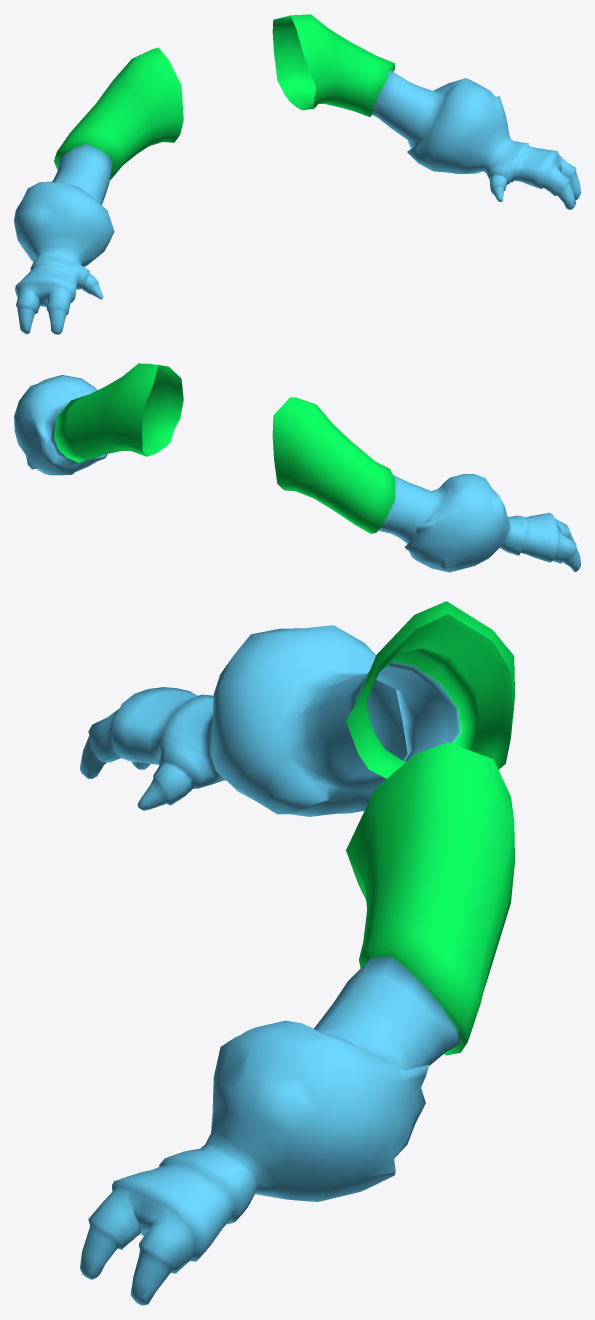
File: WitchDoctor.fbx
3 views of the same model, one above another, from view 1: azimuth 30°, elevation 25°; view 2: azimuth 150°, elevation 25°; view 3: azimuth 270°, elevation 25° (orthographic). The views are drawn at different scales.
Visible parts, largest first — view 1: arms; view 2: arms; view 3: arms.
Part boxes in pixels (<box>): arms: <box>14,14,580,334</box>; arms: <box>14,363,580,572</box>; arms: <box>80,601,514,1305</box>.
Bounding box in the file's own units: 106 × 32.5 × 35.69.
